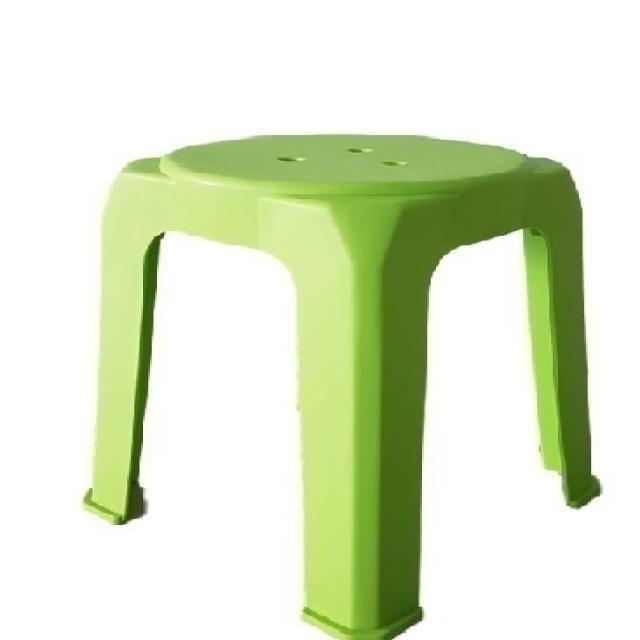chair: (76, 128, 608, 640)
